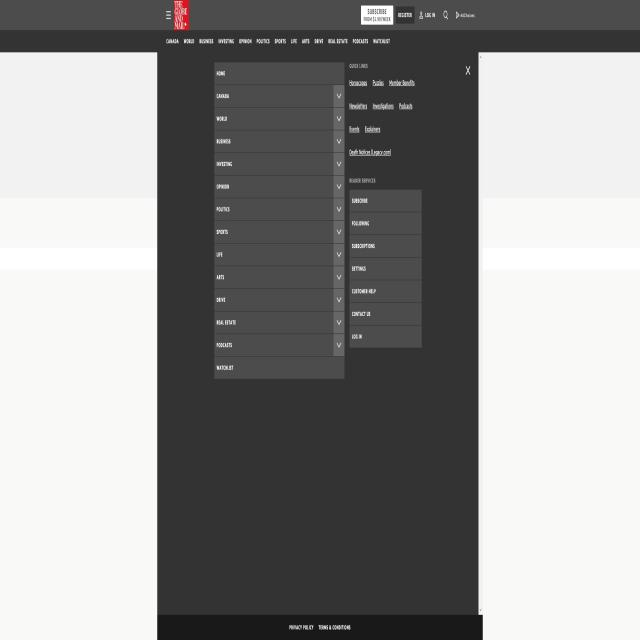menu-bar: (358, 6, 476, 22)
menu-panel: (212, 64, 430, 390)
tab-bar: (162, 32, 392, 46)
